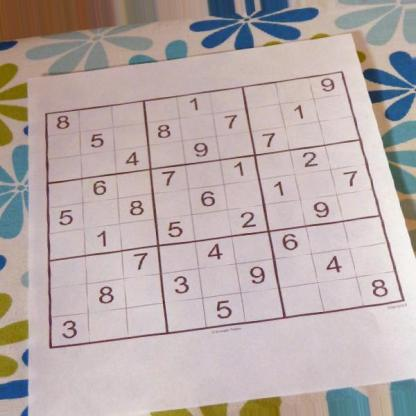sudoku: (42, 70, 408, 351)
